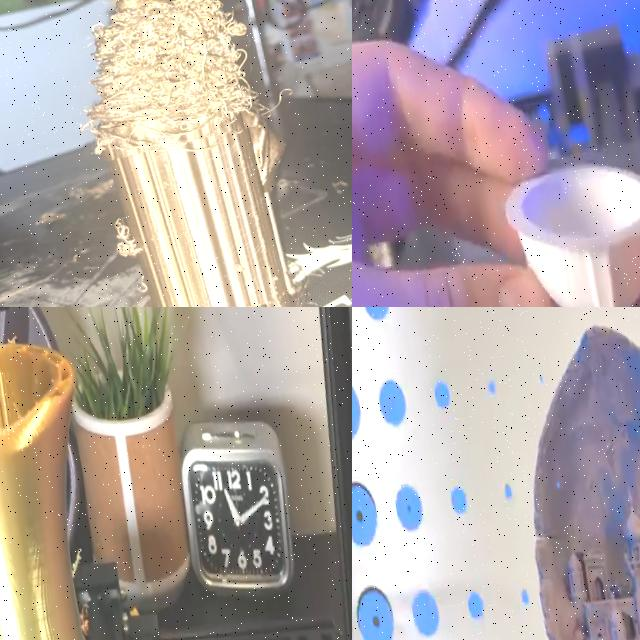spaghetti: (80, 0, 261, 156), (76, 608, 95, 636)
